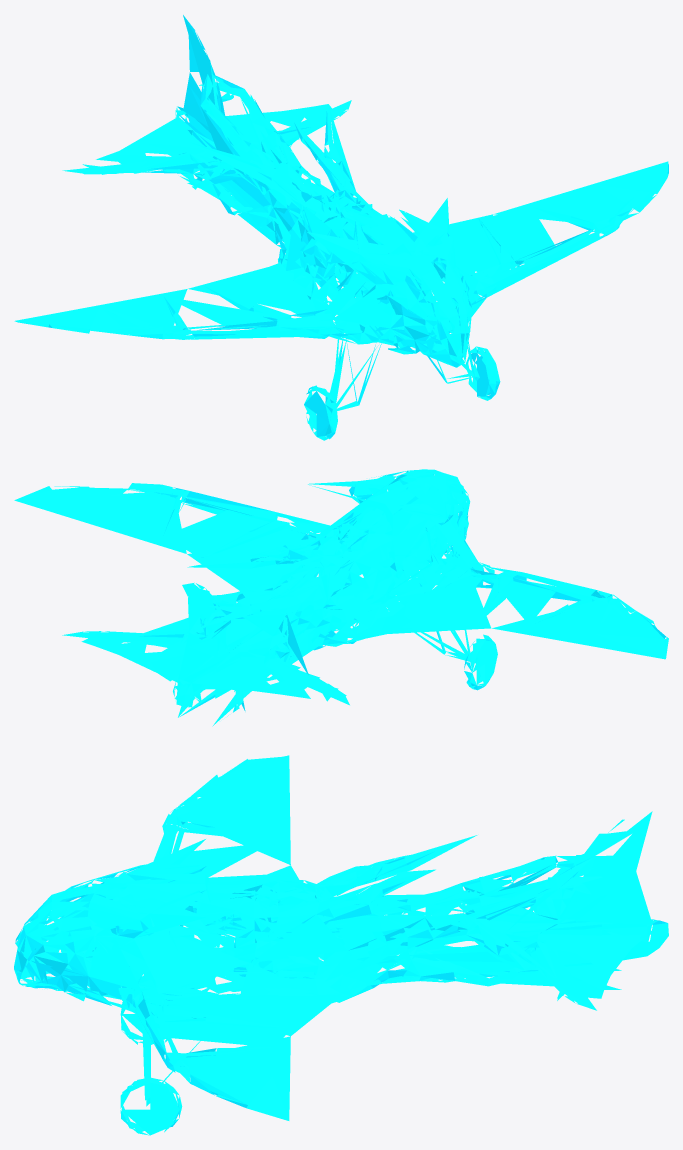
The model's file is PXAF019.glb.
The picture shows the model from 3 angles, top to bottom: view 1: azimuth 30°, elevation 25°; view 2: azimuth 150°, elevation 25°; view 3: azimuth 270°, elevation 25°; orthographic projection. The views are drawn at different scales.
Parts seen in each view (by area): view 1: misc; view 2: misc; view 3: misc.
Part boxes in pixels (x1,y1,x2,y2): misc: [14, 15, 668, 440]; misc: [14, 469, 668, 726]; misc: [14, 755, 668, 1135].
Size of the model in its own units: 0.7555 by 0.2692 by 0.5714.
